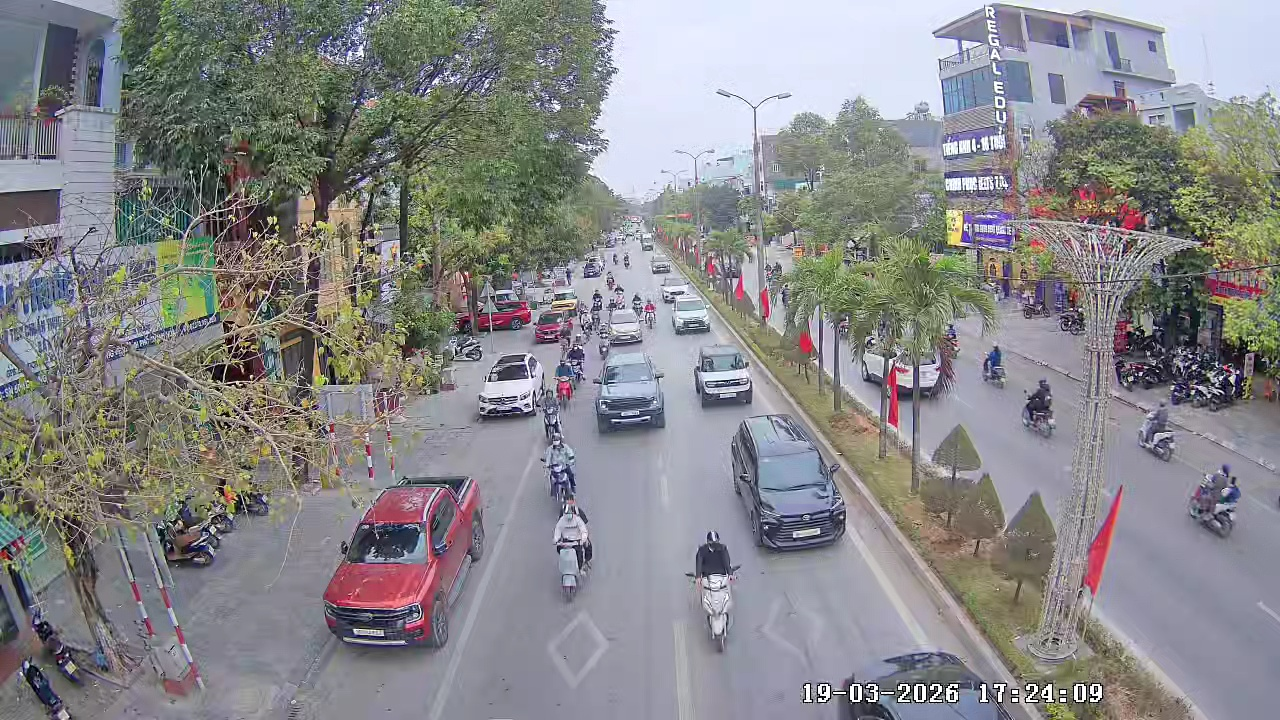car: (323, 473, 487, 649), (727, 413, 848, 549), (593, 355, 669, 434), (476, 353, 542, 419), (692, 340, 755, 408), (671, 294, 711, 334), (607, 313, 645, 345), (532, 315, 561, 344)
motorbike: (684, 529, 742, 653), (1187, 461, 1243, 539), (551, 506, 590, 603), (539, 431, 578, 508), (1137, 401, 1179, 463), (1020, 376, 1057, 439), (982, 342, 1007, 387), (539, 394, 562, 442), (556, 359, 576, 406), (638, 294, 656, 331), (570, 345, 586, 386)
